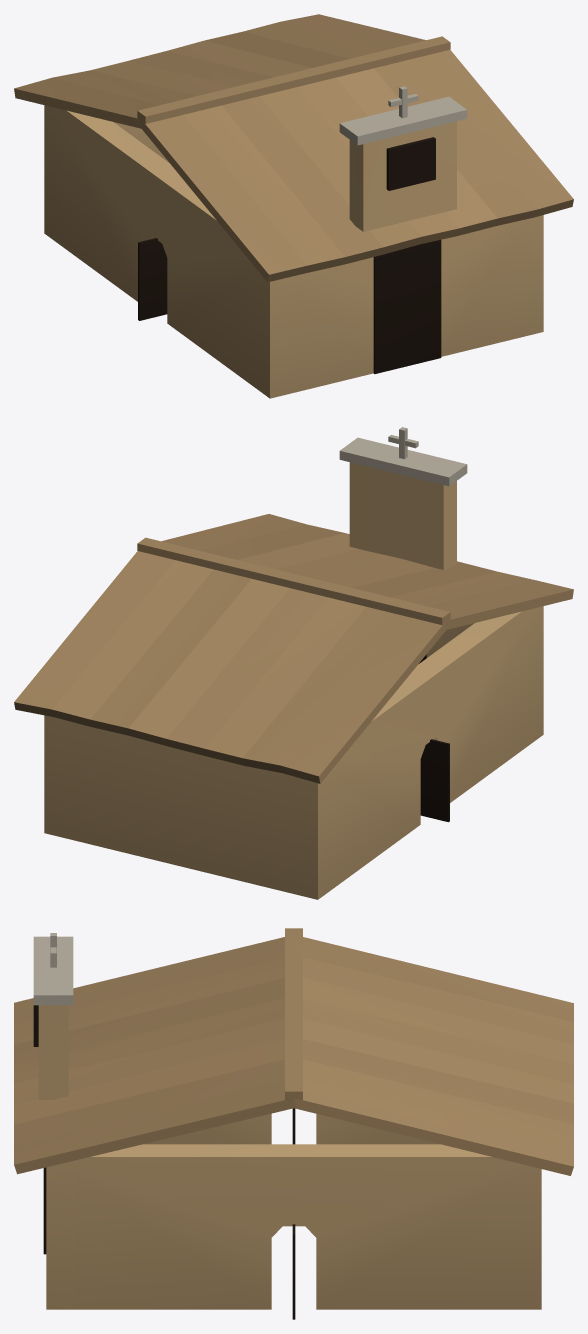
The model's file is republic_chapel_lod0.glb.
3 views of the same model, one above another, from view 1: azimuth 30°, elevation 25°; view 2: azimuth 150°, elevation 25°; view 3: azimuth 270°, elevation 25° (orthographic). The views are drawn at different scales.
Visible parts, largest first — view 1: GEO-Arch_republic_chapel_LOD0; view 2: GEO-Arch_republic_chapel_LOD0; view 3: GEO-Arch_republic_chapel_LOD0.
Boxes of the visible parts, x1,y1,x2,y2 form: GEO-Arch_republic_chapel_LOD0: (14, 14, 573, 398); GEO-Arch_republic_chapel_LOD0: (14, 427, 573, 899); GEO-Arch_republic_chapel_LOD0: (14, 928, 573, 1319).
Size of the model in its own units: 7.94 by 6.72 by 11.3.
